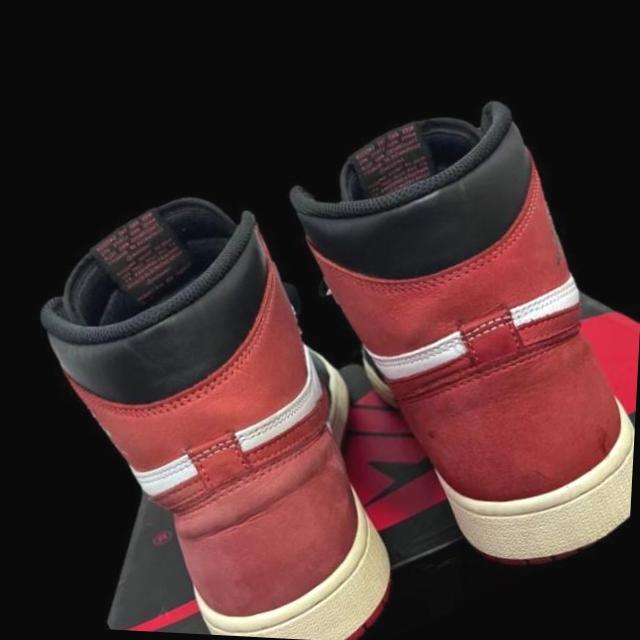nike_original_jordan: (0, 125, 481, 640), (241, 45, 640, 611)
